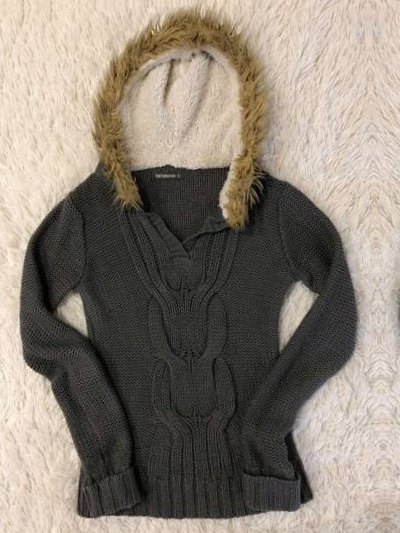Hoodie: (0, 24, 371, 533), (384, 11, 400, 522)
